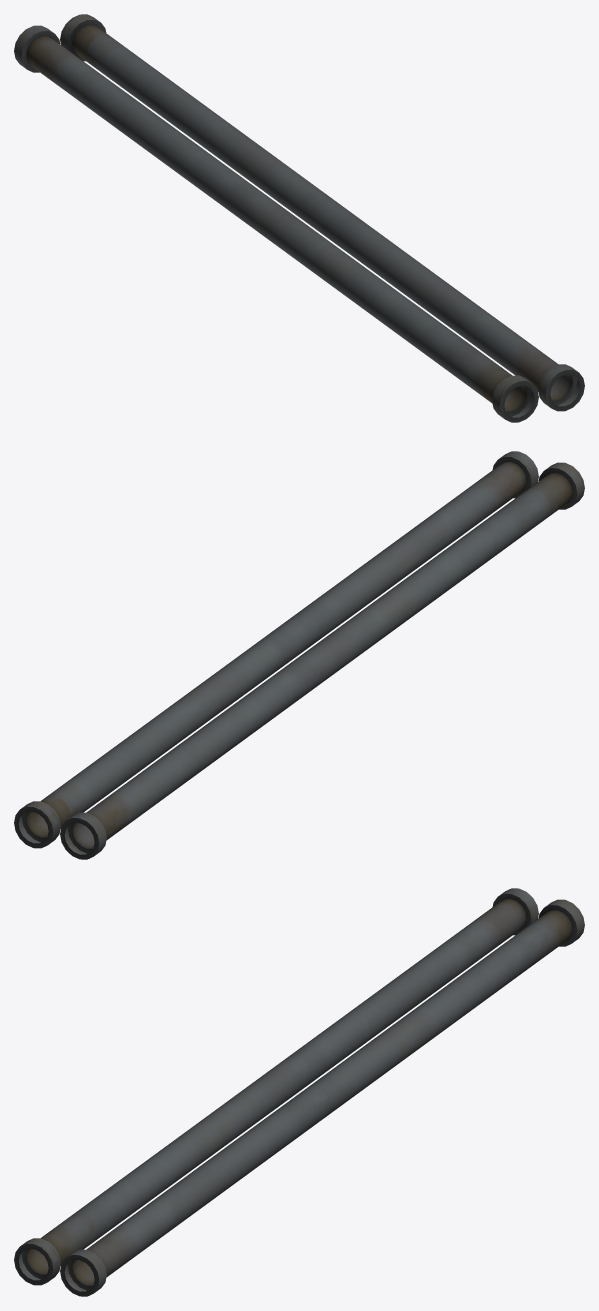
File: props_hydro_2pipe_straight_128.glb
3 views of the same model, one above another, from view 1: azimuth 30°, elevation 25°; view 2: azimuth 150°, elevation 25°; view 3: azimuth 330°, elevation 25° (orthographic).
Visible parts, largest first — view 1: models/props_hydro/2pipe_straight_128; view 2: models/props_hydro/2pipe_straight_128; view 3: models/props_hydro/2pipe_straight_128.
Part boxes in pixels (<box>): models/props_hydro/2pipe_straight_128: <box>14,14,584,422</box>; models/props_hydro/2pipe_straight_128: <box>14,451,584,859</box>; models/props_hydro/2pipe_straight_128: <box>14,888,584,1296</box>.
Bounding box in the file's own units: 12.99 × 5.99 × 128.
Materials: 1 (1 with a texture image).
